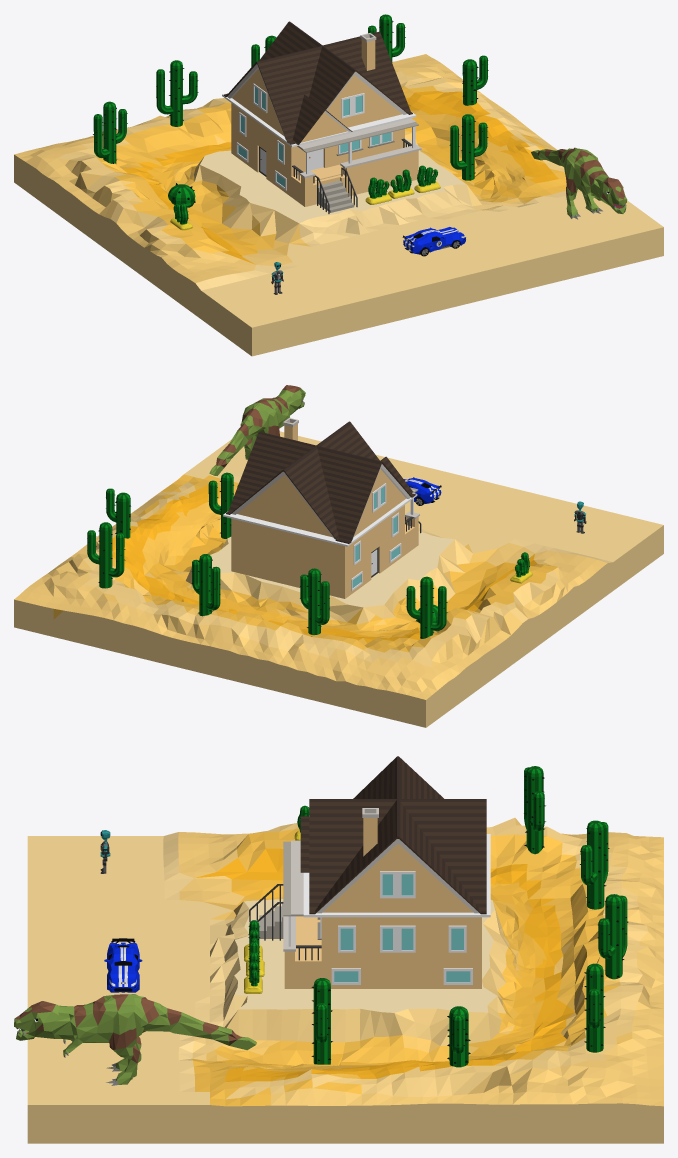
3 renders of one model, top to bottom at view 1: azimuth 30°, elevation 25°; view 2: azimuth 150°, elevation 25°; view 3: azimuth 270°, elevation 25°, orthographic. The views are drawn at different scales.
Visible parts, largest first — view 1: Cube.001, Cube.235, ANIMAL_TREX, Cylinder.044, Cylinder.037, Cylinder.045, VEHICLES_RACING_CAR, Cylinder.038, Cylinder.042, Cylinder.039, Cylinder.041, Cylinder.040; view 2: Cube.001, Cube.235, ANIMAL_TREX, Cylinder.042, Cylinder.045, Cylinder.044, Cylinder.043, Cylinder.037, Cylinder.038, VEHICLES_RACING_CAR; view 3: Cube.001, Cube.235, ANIMAL_TREX, Cylinder.043, Cylinder.044, VEHICLES_RACING_CAR, Cylinder.045, Cylinder.042, Cylinder.037, Cylinder.038, Cylinder.041.
Boxes of the visible parts, x1,y1,x2,y2 form: Cube.001: (14, 54, 663, 356); Cube.235: (222, 21, 421, 213); ANIMAL_TREX: (531, 147, 627, 219); Cylinder.044: (156, 60, 198, 126); Cylinder.037: (449, 114, 488, 180); Cylinder.045: (93, 101, 127, 163); VEHICLES_RACING_CAR: (402, 227, 465, 256); Cylinder.038: (462, 55, 488, 105); Cylinder.042: (368, 14, 405, 62); Cylinder.039: (365, 177, 391, 204); Cylinder.041: (414, 165, 440, 192); Cylinder.040: (388, 169, 414, 198); Cube.001: (14, 431, 663, 727); Cube.235: (223, 417, 421, 598); ANIMAL_TREX: (209, 385, 305, 475); Cylinder.042: (87, 522, 125, 588); Cylinder.045: (406, 576, 447, 638); Cylinder.044: (300, 568, 329, 634); Cylinder.043: (191, 554, 220, 616); Cylinder.037: (208, 472, 238, 538); Cylinder.038: (106, 488, 130, 538); VEHICLES_RACING_CAR: (404, 477, 441, 505); Cube.001: (27, 817, 663, 1143); Cube.235: (249, 756, 490, 988); ANIMAL_TREX: (14, 994, 256, 1085); Cylinder.043: (597, 894, 628, 979); Cylinder.044: (580, 820, 609, 909); VEHICLES_RACING_CAR: (104, 938, 142, 992); Cylinder.045: (524, 766, 545, 854); Cylinder.042: (584, 963, 605, 1052); Cylinder.037: (311, 978, 332, 1064); Cylinder.038: (447, 1006, 470, 1067); Cylinder.041: (244, 952, 262, 993).
Size of the model in its own units: 4002 by 1635 by 4088.
Materials: 36 (2 with a texture image).
